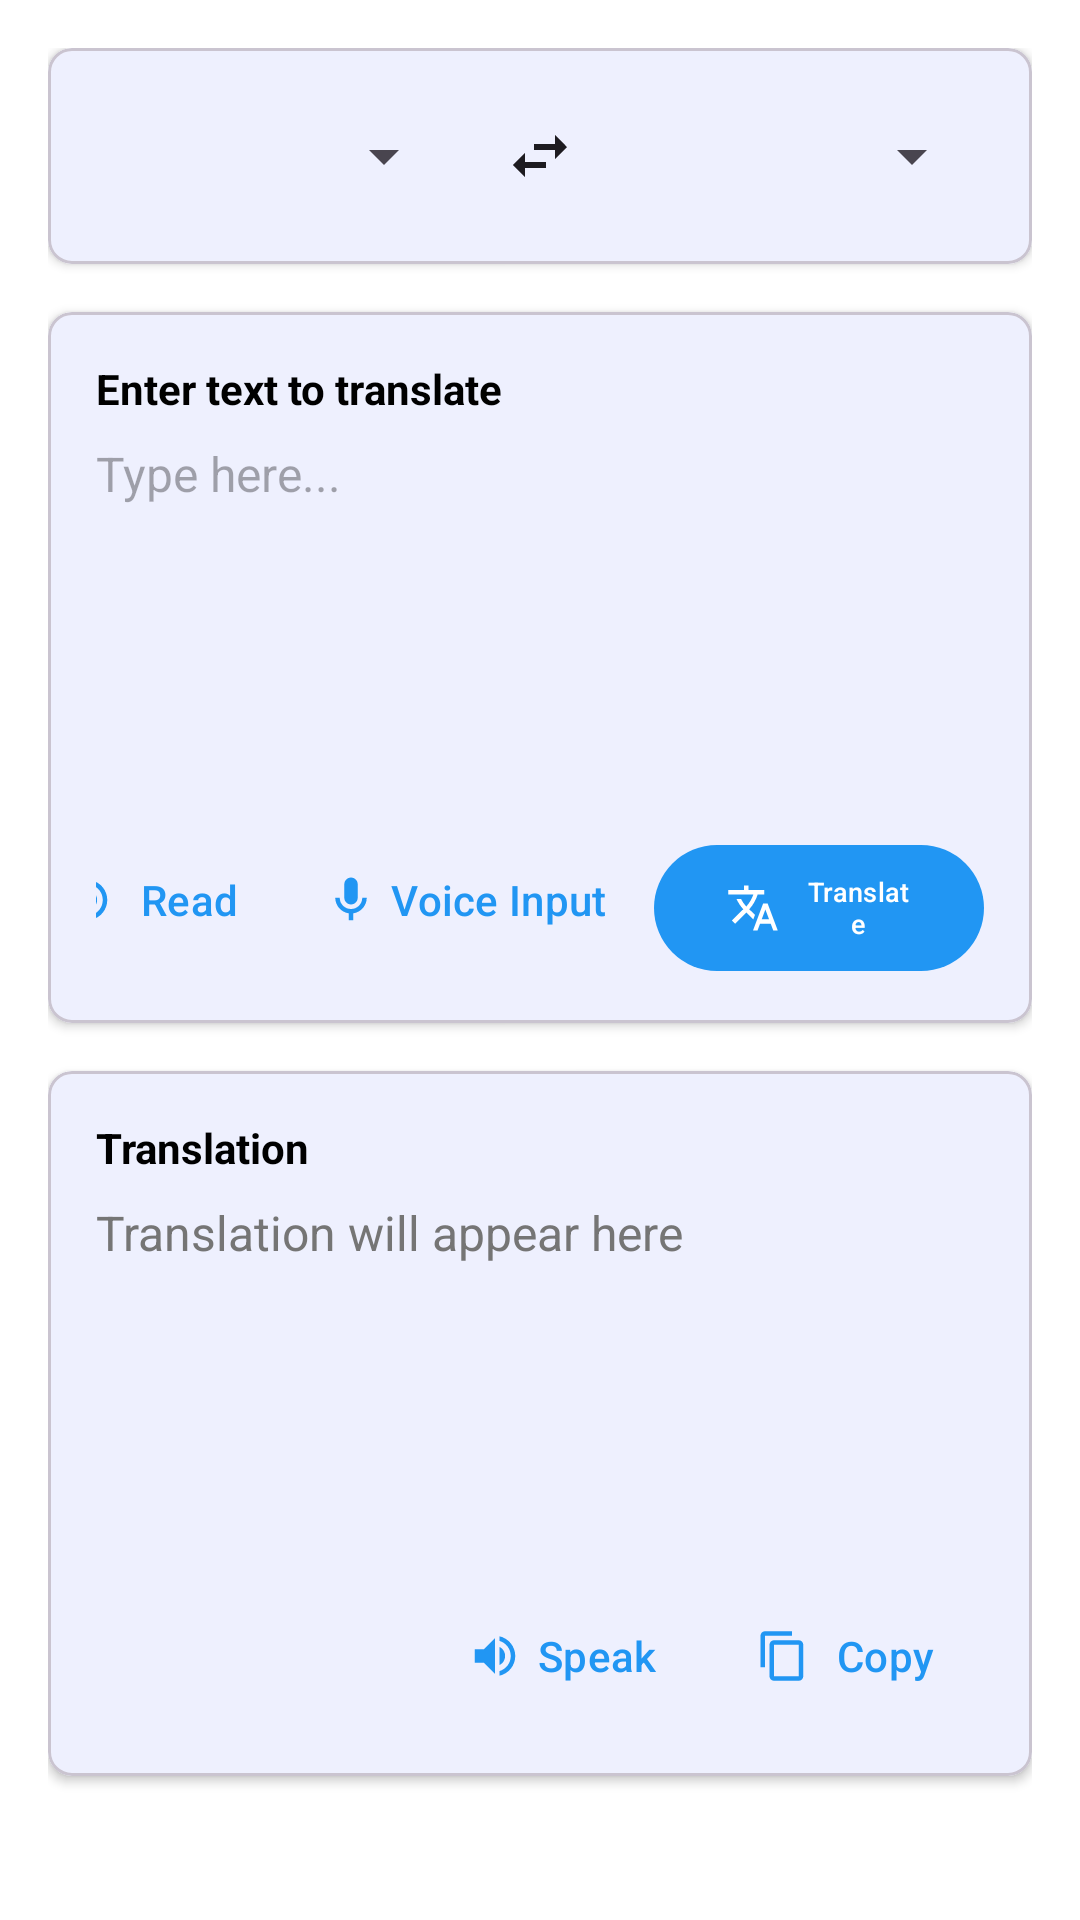

Named icons in this screenshot (1080px×1920px) and their centers, [x,y]:
Swap Languages: [540,156]
